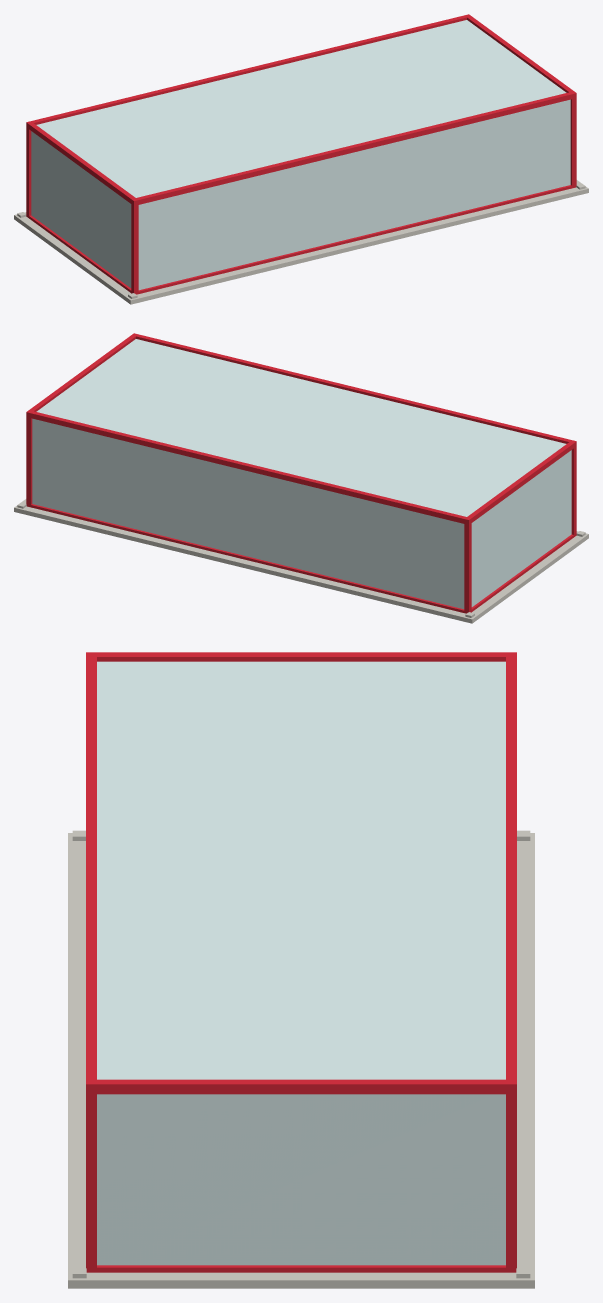
The model's file is mclaren-f1-868268.glb.
3 renders of one model, top to bottom at view 1: azimuth 30°, elevation 25°; view 2: azimuth 150°, elevation 25°; view 3: azimuth 270°, elevation 25°, orthographic. The views are drawn at different scales.
Bounding box in the file's own units: 0.68 × 0.1395 × 0.3.
